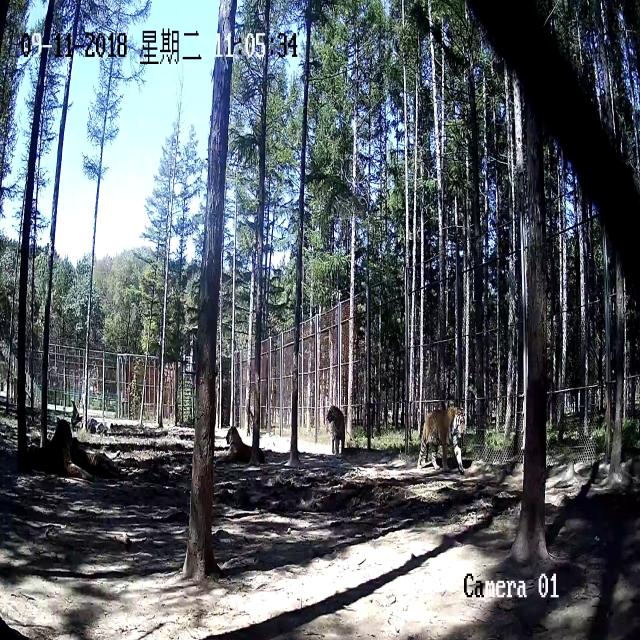Tiger: (2, 408, 76, 482), (416, 395, 472, 483), (213, 418, 279, 482), (80, 442, 138, 481), (322, 397, 349, 460)
